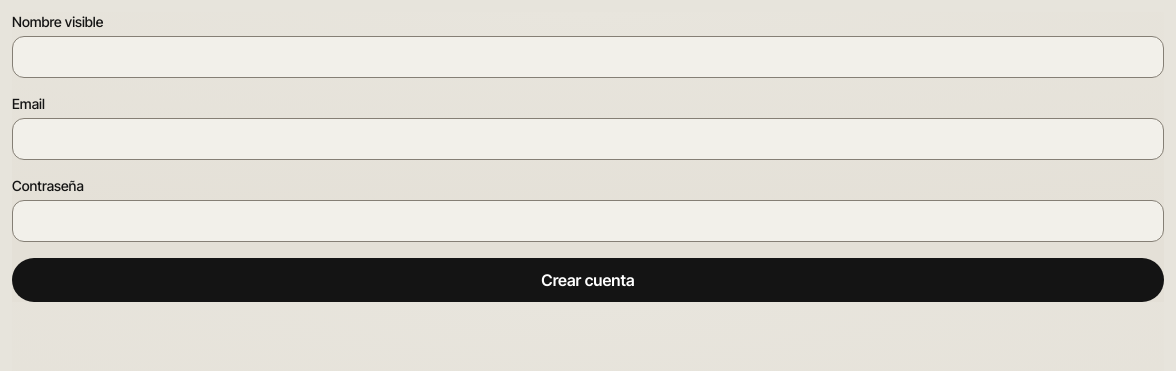
Test: SignupForm › keeps the name and email after a form error (RF-2, RF-12)
Type "Ana" into the field labelled "Nombre visible" at [588, 57], box [12,36,1164,78]
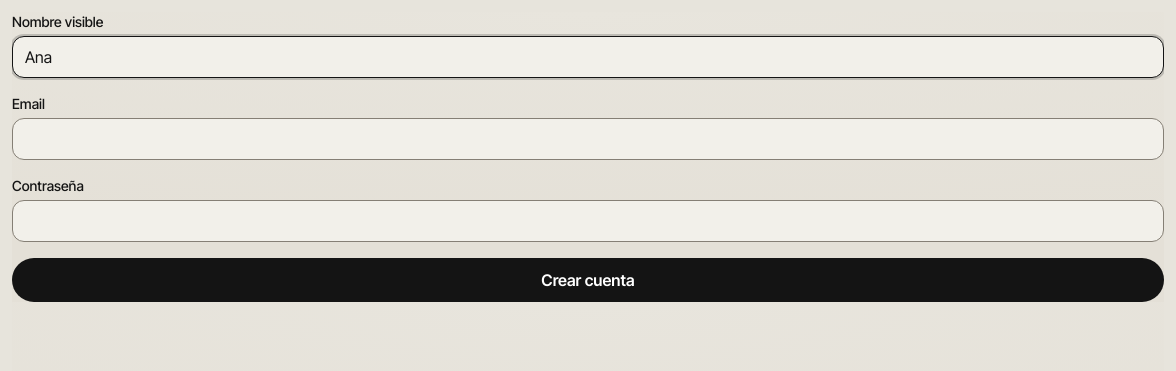
Type "ana@example.com" into the field labelled "Email" at [588, 139], box [12,118,1164,160]
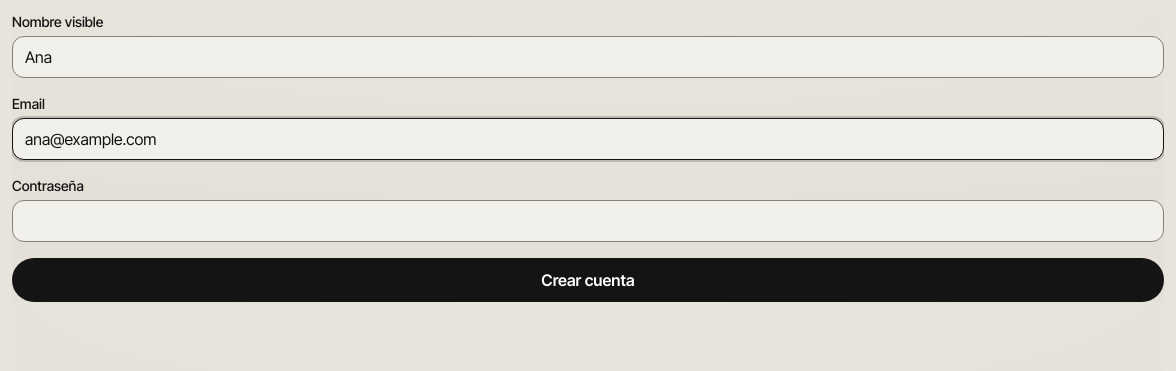
Type "12345678" into the password field labelled "Contraseña" at [588, 221], box [12,200,1164,242]
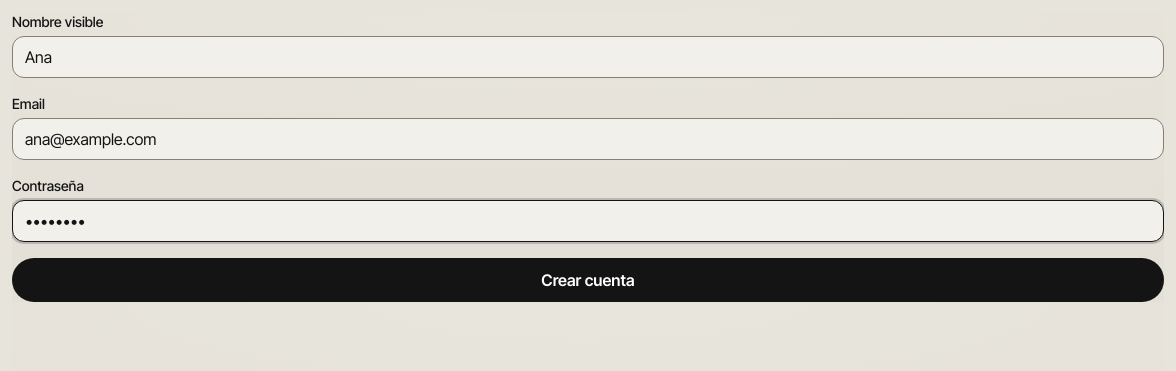
Click the button "Crear cuenta" at [588, 280], box [12,258,1164,302]
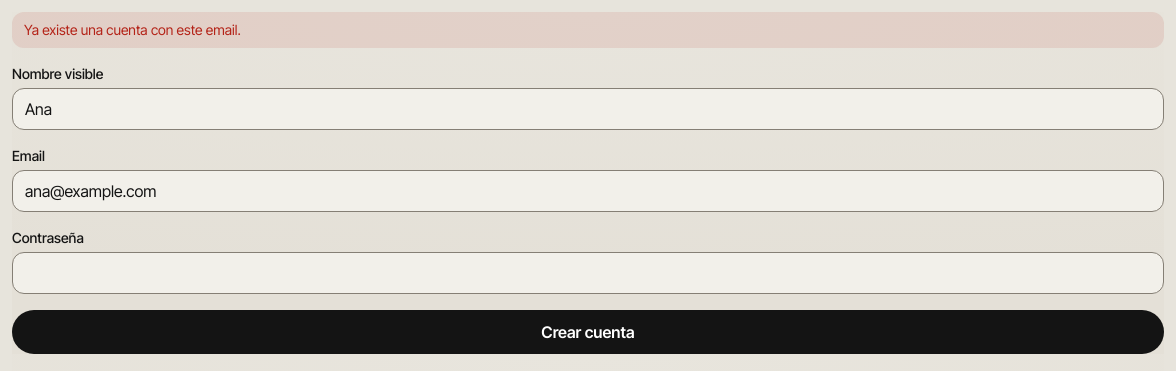
Expected: the message reads "Ya existe una cuenta con este email.", [24,21,241,38]
